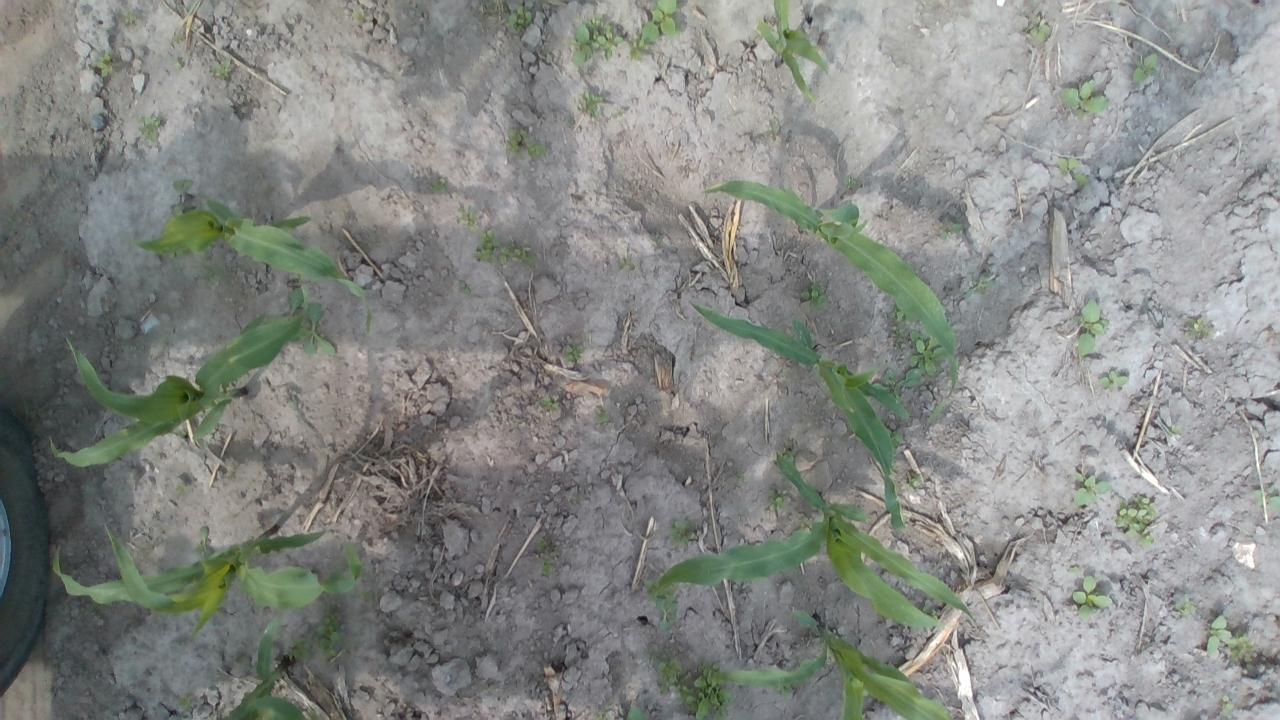Maize: (646, 454, 980, 632), (702, 176, 961, 398), (688, 301, 912, 530), (49, 309, 304, 470), (49, 522, 368, 640), (136, 200, 372, 354), (716, 602, 948, 719), (220, 620, 311, 720), (760, 0, 828, 100)
Weeds: (681, 662, 730, 718), (1116, 494, 1160, 549), (1074, 576, 1110, 619), (1061, 82, 1104, 118), (908, 334, 944, 374), (643, 0, 679, 40), (1077, 301, 1103, 356), (589, 20, 624, 60), (1074, 470, 1110, 508), (317, 608, 345, 650), (1206, 614, 1234, 656), (472, 228, 498, 264), (570, 24, 592, 66), (135, 113, 164, 144), (940, 204, 970, 233), (1251, 484, 1280, 514), (646, 580, 677, 606), (670, 520, 696, 551), (658, 660, 683, 692), (1058, 156, 1086, 184), (1131, 53, 1155, 83), (501, 243, 532, 266), (1233, 635, 1258, 662), (212, 54, 237, 81), (802, 281, 825, 309), (576, 92, 605, 114), (1102, 371, 1132, 391), (507, 5, 534, 27), (768, 488, 792, 512), (1185, 316, 1209, 340), (456, 201, 477, 226), (654, 596, 669, 629), (1176, 593, 1196, 617), (294, 640, 316, 661), (96, 54, 115, 78), (536, 394, 560, 411), (630, 39, 649, 60), (198, 526, 212, 554), (171, 179, 193, 196), (528, 142, 550, 159), (1030, 25, 1052, 42), (563, 342, 583, 360), (508, 130, 523, 150), (977, 273, 990, 293), (890, 430, 904, 448), (906, 472, 920, 490), (542, 557, 552, 581), (122, 11, 138, 26), (1220, 694, 1232, 713), (620, 255, 635, 270), (430, 177, 447, 188), (781, 447, 796, 459), (354, 12, 366, 24), (539, 540, 553, 550), (889, 310, 903, 320), (594, 406, 606, 417), (846, 178, 856, 188), (175, 56, 182, 70)
